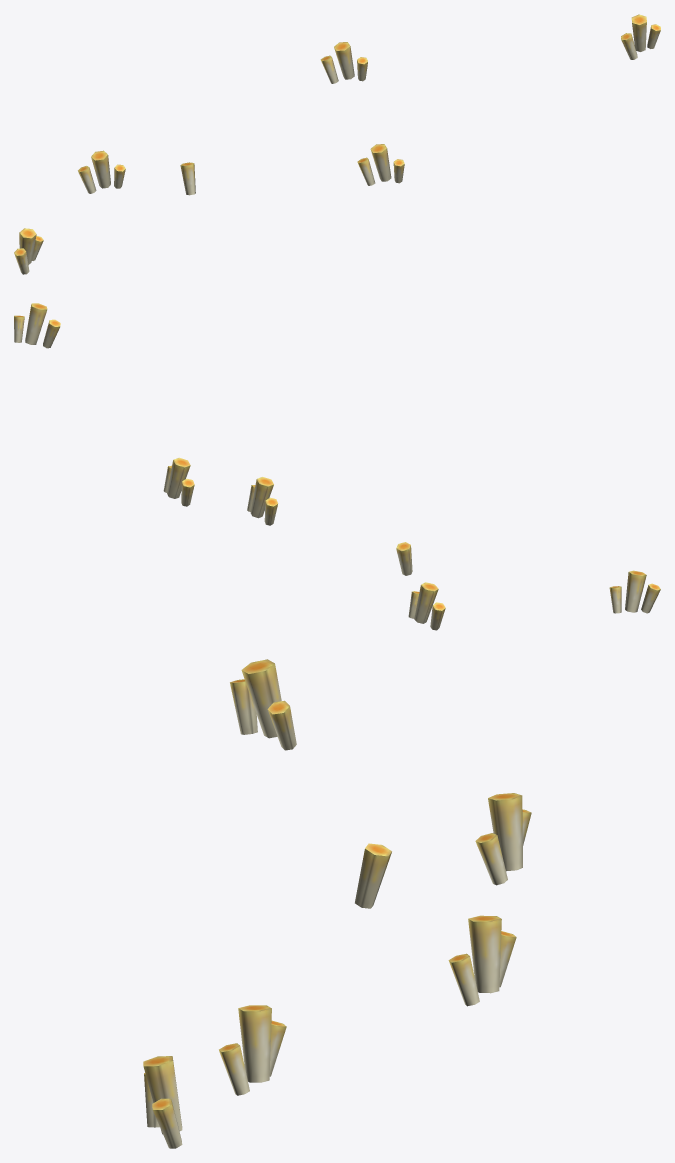
Rendered from Area10_4.fbx.
3 views of the same model, one above another, from view 1: azimuth 30°, elevation 25°; view 2: azimuth 150°, elevation 25°; view 3: azimuth 270°, elevation 25° (orthographic). The views are drawn at different scales.
Parts seen in each view (by area): view 1: Area10_4; view 2: Area10_4; view 3: Area10_4.
Boxes of the visible parts, x1,y1,x2,y2 form: Area10_4: [14, 14, 660, 274]; Area10_4: [14, 303, 660, 630]; Area10_4: [143, 659, 531, 1148].
Size of the model in its own units: 811 by 158 by 218.
